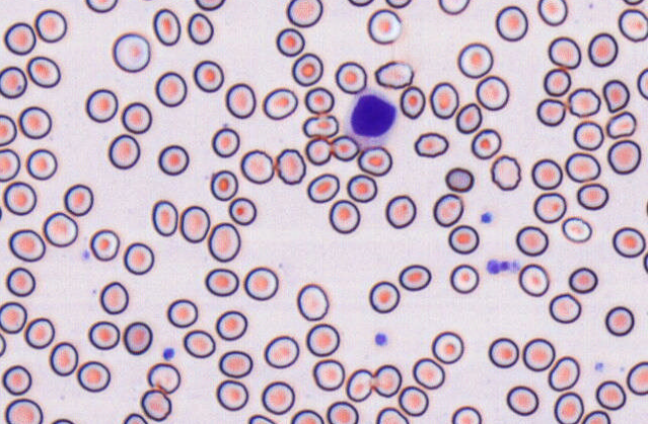MONO: (344, 85, 398, 151)
PLT: (485, 257, 501, 275), (478, 211, 494, 225), (161, 347, 176, 361), (375, 331, 388, 347), (500, 258, 510, 271)
RBC: (112, 32, 150, 72), (207, 222, 240, 262), (42, 211, 78, 247), (457, 42, 493, 78), (367, 8, 402, 44), (8, 228, 45, 262), (296, 283, 329, 320), (261, 380, 295, 415), (33, 8, 67, 43), (243, 266, 278, 300), (475, 75, 509, 110), (240, 149, 274, 184), (607, 139, 641, 174), (107, 133, 140, 169), (495, 5, 528, 41), (262, 87, 298, 120), (263, 335, 299, 368), (154, 71, 187, 107), (179, 205, 210, 243), (2, 181, 36, 215), (26, 55, 61, 88), (429, 81, 459, 119), (374, 60, 413, 89), (522, 337, 555, 371), (3, 21, 36, 55), (305, 323, 339, 356), (85, 88, 118, 122), (547, 36, 581, 69), (18, 105, 51, 139), (225, 82, 256, 118), (490, 154, 521, 190), (275, 148, 306, 184), (564, 151, 600, 182), (152, 8, 181, 46), (312, 358, 345, 391), (76, 360, 110, 392), (291, 52, 323, 86), (328, 199, 360, 233), (431, 330, 463, 364), (357, 145, 392, 176), (587, 32, 618, 67), (215, 379, 248, 411), (412, 357, 445, 389), (368, 280, 400, 313), (334, 61, 366, 94), (612, 226, 645, 258), (385, 194, 416, 228), (25, 148, 57, 180), (123, 242, 154, 275), (306, 172, 339, 203), (518, 263, 549, 296), (548, 292, 581, 323), (533, 192, 566, 223), (515, 225, 548, 256), (121, 101, 152, 134), (193, 59, 224, 92), (567, 87, 601, 117), (49, 341, 78, 376), (204, 267, 239, 296), (286, 0, 323, 27), (151, 199, 178, 236), (140, 389, 171, 421), (24, 317, 55, 349), (506, 385, 538, 416), (531, 158, 562, 190), (157, 144, 189, 175), (433, 193, 463, 226), (89, 228, 119, 261), (372, 364, 402, 397), (63, 183, 93, 216), (123, 321, 152, 355), (618, 8, 647, 42), (218, 350, 253, 378), (4, 398, 43, 423), (488, 337, 519, 368), (470, 128, 501, 159), (553, 391, 583, 423), (166, 298, 198, 328), (447, 224, 479, 254), (215, 310, 247, 340), (88, 320, 120, 350), (182, 329, 215, 358), (99, 281, 128, 314), (398, 385, 428, 416), (595, 380, 626, 410), (573, 120, 604, 150), (604, 305, 634, 336), (209, 169, 238, 201), (345, 368, 373, 401), (398, 263, 431, 291), (5, 266, 35, 296), (275, 27, 305, 57), (449, 263, 479, 293), (346, 173, 377, 202), (2, 364, 31, 395), (576, 182, 608, 210), (0, 65, 27, 98), (399, 85, 425, 119), (414, 131, 448, 157), (0, 301, 27, 333), (186, 12, 213, 44), (536, 98, 566, 126), (211, 127, 239, 157), (304, 86, 334, 114), (561, 216, 592, 243), (455, 102, 482, 133), (543, 67, 571, 96), (228, 196, 256, 225), (568, 266, 598, 293), (330, 134, 359, 161), (444, 166, 474, 192), (537, 0, 567, 26), (305, 137, 331, 165), (626, 361, 647, 395), (326, 401, 358, 423), (0, 148, 20, 181), (375, 406, 409, 423), (0, 113, 17, 146), (451, 405, 481, 423), (438, 0, 470, 15), (290, 409, 324, 423), (85, 0, 118, 13), (581, 409, 610, 423), (636, 67, 647, 100), (194, 0, 225, 11), (247, 413, 276, 423), (122, 412, 147, 423), (385, 0, 411, 8), (347, 0, 373, 7), (0, 332, 6, 357), (50, 418, 74, 423), (643, 250, 648, 273), (622, 0, 644, 5), (645, 198, 648, 217), (136, 0, 158, 1)
Schistocyte: (549, 354, 581, 391), (601, 78, 631, 114), (301, 115, 340, 138), (606, 111, 638, 139)
